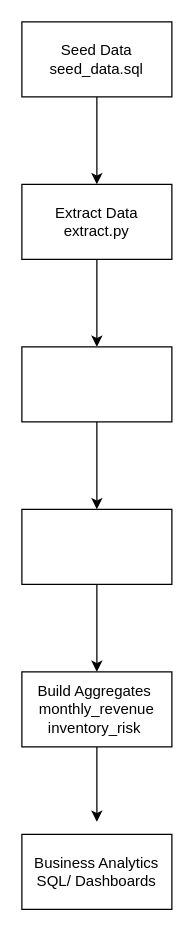
Some shapes in this 194 by 931 pixel diagram are drawn without their labels. The centre of each missing label's shape, as x and y in pixels:
"Build Fact Table analytics_fact_sales" belongs at point (96, 546).
"Transform data transform.py" belongs at point (96, 384).
